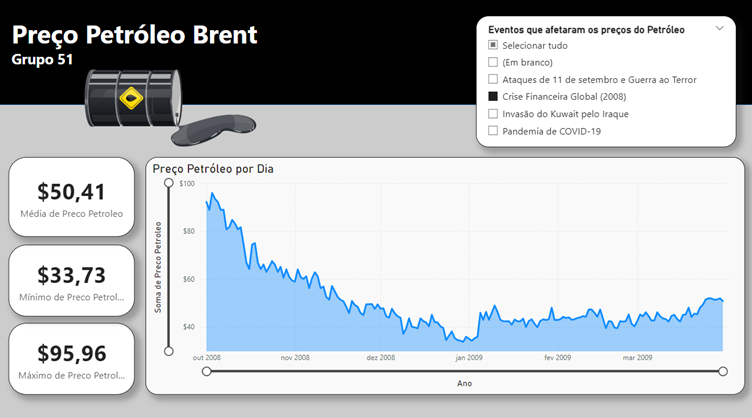

This screenshot's page, from the dashboard's own definition file:
{"tool":"powerbi","page":{"name":"Página 1","canvas":[1280,720],"ordinal":0},"visuals":[{"type":"lineChart","title":"Preço Petróleo por Dia","fields":{"Y":["Sum(PRECO_PETROLEO - Página1.Preco Petroleo)"],"Category":["PRECO_PETROLEO - Página1.Data.Variation.Hierarquia de datas.Ano","PRECO_PETROLEO - Página1.Data.Variation.Hierarquia de datas.Trimestre","PRECO_PETROLEO - Página1.Data.Variation.Hierarquia de datas.Mês","PRECO_PETROLEO - Página1.Data.Variation.Hierarquia de datas.Dia"]},"box":[249.7,269,1011.3,400.7],"z":0},{"type":"card","fields":{"Values":["Max(PRECO_PETROLEO - Página1.Preco Petroleo)"]},"box":[17.8,548.9,212.7,120.8],"z":1000},{"type":"card","fields":{"Values":["Min(PRECO_PETROLEO - Página1.Preco Petroleo)"]},"box":[17.8,417.2,212.7,120.8],"z":2000},{"type":"card","fields":{"Values":["Avg(PRECO_PETROLEO - Página1.Preco Petroleo)"]},"box":[17.8,269,212.7,134.5],"z":3000},{"type":"shape","box":[0,0,1280.3,181.1],"z":4000},{"type":"textbox","title":"Preço Petróleo","box":[18.3,25.7,440.2,116.2],"z":5000},{"type":"slicer","fields":{"Values":["Página1.Eventos"]},"box":[807.1,30.6,439,221.3],"z":6000},{"type":"image","box":[141.8,36.7,299.6,299.6],"z":7000}]}

Visuals, with their boxes in screenshot pixels (x1, y1, x2, y2), scaled from the page's 1280x720 canvas onto the 752x418 screenshot:
"Preço Petróleo por Dia" lineChart: locate(147, 156, 741, 389)
card - Max(PRECO_PETROLEO - Página1.Preco Petroleo): locate(10, 319, 135, 389)
card - Min(PRECO_PETROLEO - Página1.Preco Petroleo): locate(10, 242, 135, 312)
card - Avg(PRECO_PETROLEO - Página1.Preco Petroleo): locate(10, 156, 135, 234)
shape: locate(0, 0, 751, 105)
"Preço Petróleo" textbox: locate(11, 15, 269, 82)
slicer - Página1.Eventos: locate(474, 18, 732, 146)
image: locate(83, 21, 259, 195)
